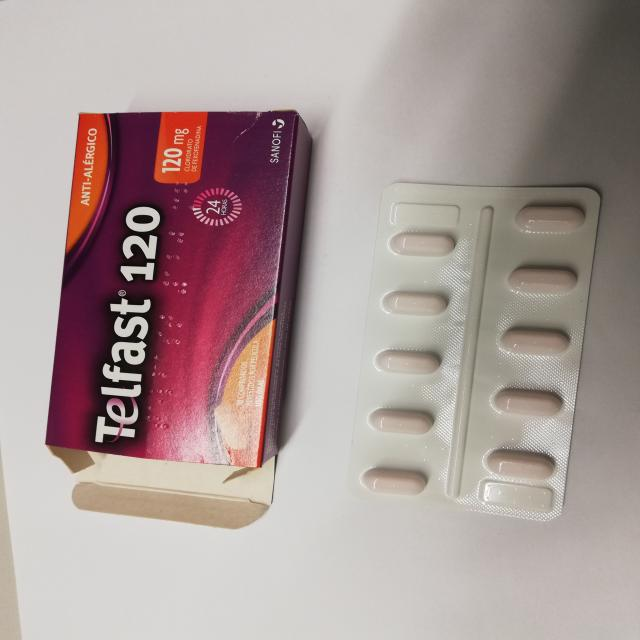Pill: (492, 258, 594, 302), (485, 320, 582, 361), (485, 379, 567, 420), (506, 199, 596, 236), (474, 444, 561, 482), (355, 461, 439, 500), (374, 282, 454, 322), (372, 339, 447, 380), (385, 226, 465, 264), (363, 400, 439, 439)
